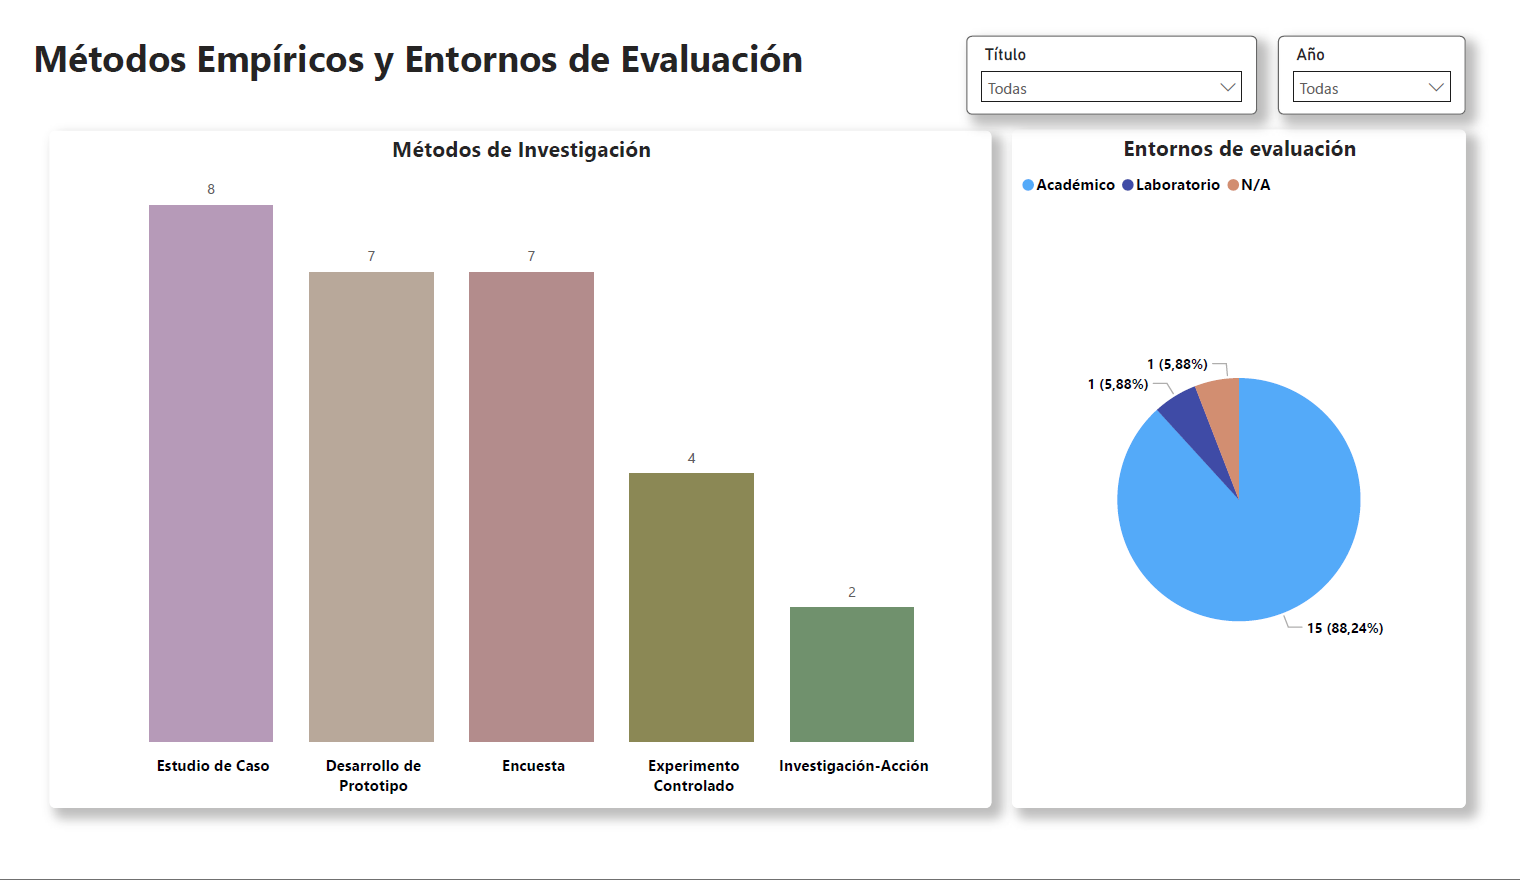

Layout of this report page (visuals, bound fields, positions):
{"tool":"powerbi","page":{"name":"RQ3","canvas":[1280,720],"ordinal":3},"visuals":[{"type":"columnChart","title":"Métodos de Investigación","fields":{"Category":["MetodosInvestigacion.Metodos_Investigacion"],"Y":["MetodosInvestigacion.Met_Investigaciones"]},"box":[21.1,90.8,822.3,590.9],"z":0},{"type":"textbox","box":[0,0,685.5,67.1],"z":1000},{"type":"pieChart","title":"Entornos de evaluación","fields":{"Category":["Hoja1.Entorno de evaluación"],"Y":["CountNonNull(Hoja1.Entorno de evaluación)"]},"box":[861,90,396,592],"z":2000},{"type":"slicer","fields":{"Values":["Hoja1.Año"]},"box":[1093,8,164,69],"z":3000},{"type":"slicer","fields":{"Values":["Hoja1.Título"]},"box":[820.7,8.2,253.9,68.9],"z":4000}]}

Visuals, with their boxes in screenshot pixels (x1, y1, x2, y2), scaled from the page's 1280x720 canvas onto the 1520x880 screenshot:
"Métodos de Investigación" columnChart: (x1=25, y1=111, x2=1002, y2=833)
textbox: (x1=0, y1=0, x2=814, y2=82)
"Entornos de evaluación" pieChart: (x1=1022, y1=110, x2=1493, y2=834)
slicer - Hoja1.Año: (x1=1298, y1=10, x2=1493, y2=94)
slicer - Hoja1.Título: (x1=975, y1=10, x2=1276, y2=94)
